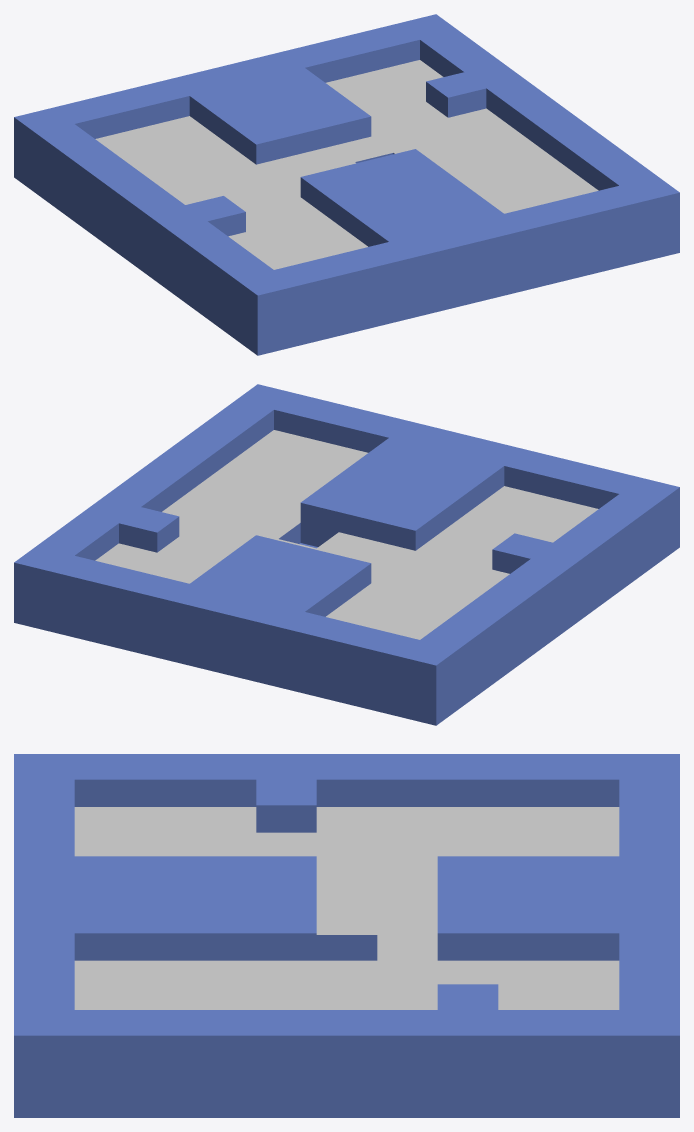
The model's file is 008_platform.fbx.
3 renders of one model, top to bottom at view 1: azimuth 30°, elevation 25°; view 2: azimuth 150°, elevation 25°; view 3: azimuth 270°, elevation 25°, orthographic. The views are drawn at different scales.
Parts seen in each view (by area): view 1: Cube; view 2: Cube; view 3: Cube.
Boxes of the visible parts, x1,y1,x2,y2 form: Cube: (14, 14, 679, 355); Cube: (14, 384, 679, 725); Cube: (14, 754, 679, 1117).
Bounding box in the file's own units: 1100 × 150 × 1100.
